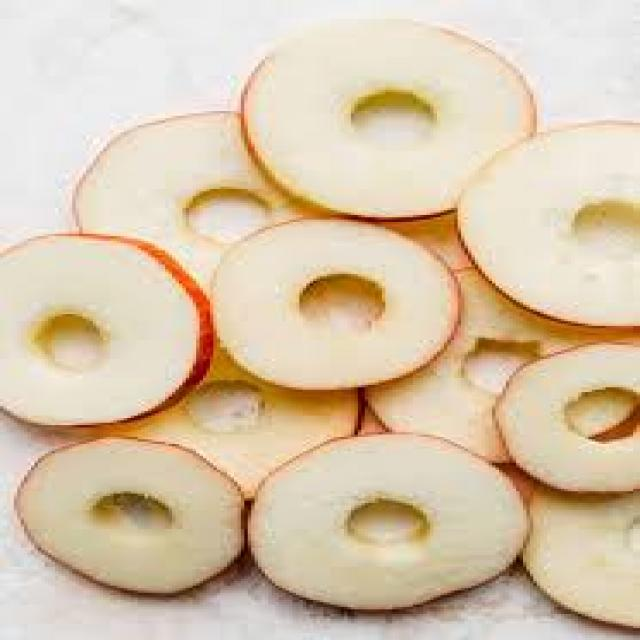Apple: (239, 16, 534, 216), (252, 436, 528, 608), (70, 108, 334, 282), (213, 219, 467, 389), (0, 230, 208, 432), (13, 436, 243, 600), (470, 124, 640, 327), (496, 342, 640, 492), (532, 484, 640, 640)
